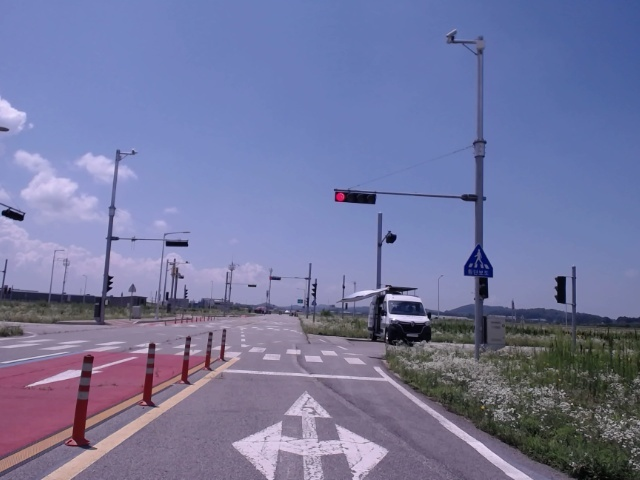red_4: (334, 190, 377, 204)
